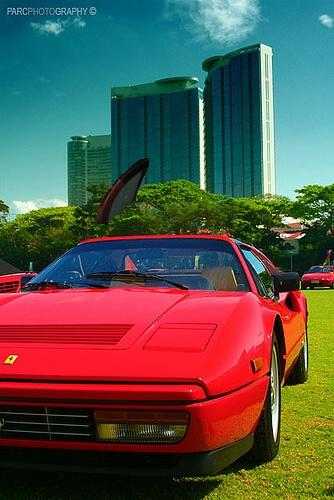tampered: (96, 159, 149, 224)
